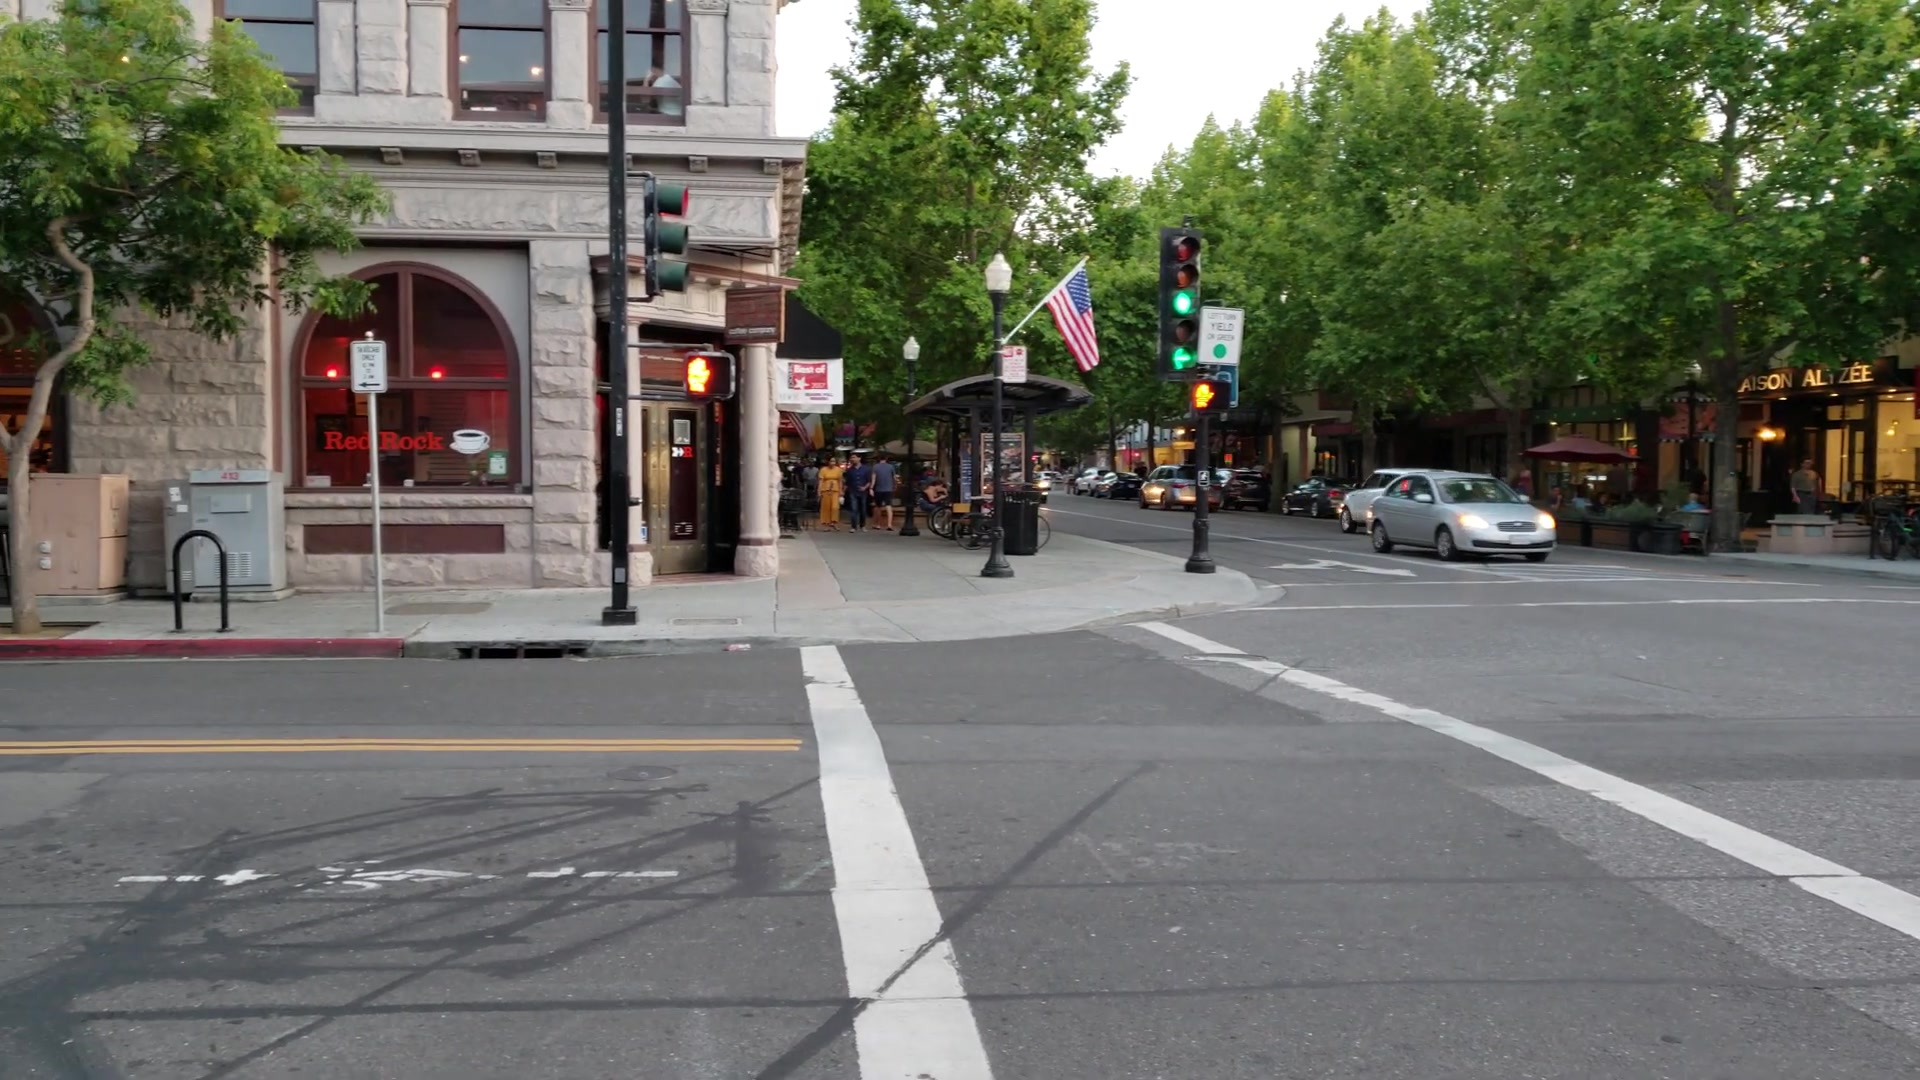vehicle: (1369, 471, 1557, 567)
